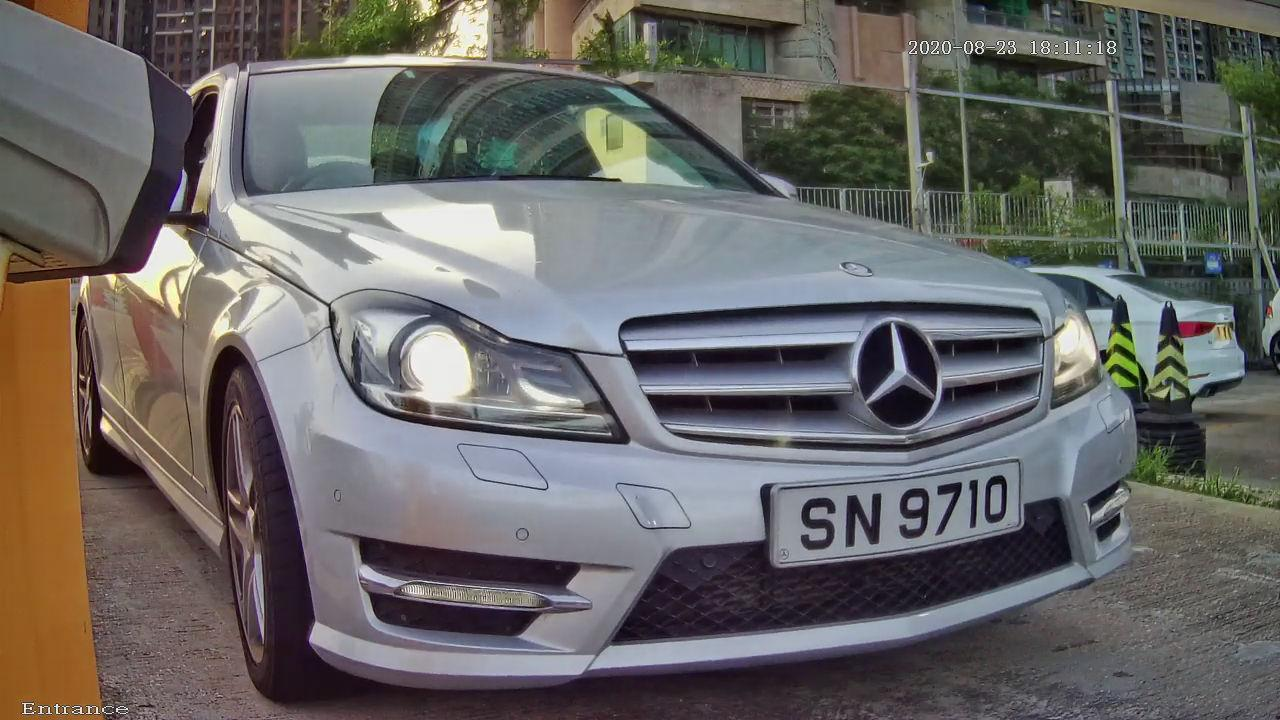Car: (69, 1, 1235, 720)
License Plate: (703, 429, 1087, 603)
